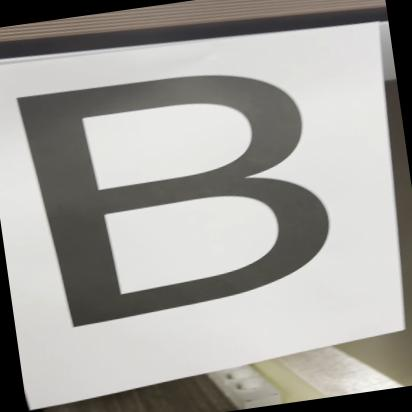seat: (0, 42, 353, 339)
